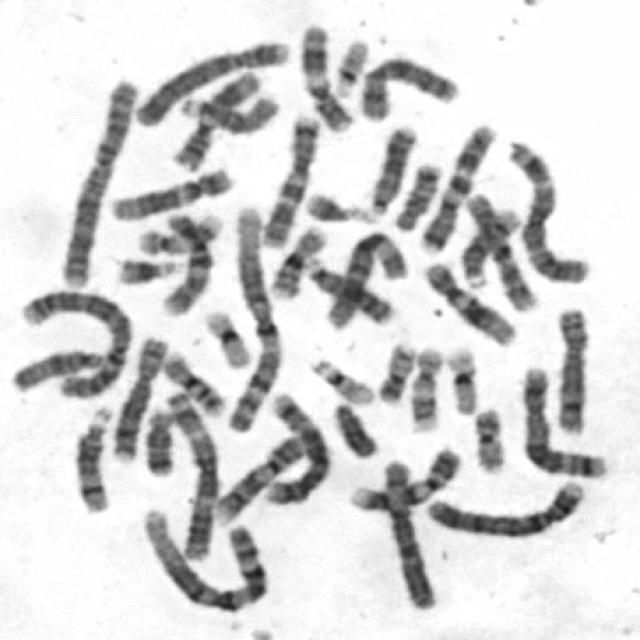A1: (134, 504, 266, 614), (222, 201, 282, 433)
A2: (56, 73, 140, 292), (13, 285, 134, 401)
A3: (503, 137, 591, 286), (160, 390, 220, 560)
B4: (129, 36, 292, 128), (420, 474, 588, 540)
B5: (516, 362, 609, 478), (261, 388, 331, 508)
C10: (459, 185, 536, 308), (155, 208, 214, 316)
C11: (170, 67, 266, 171), (291, 24, 348, 138)
C12: (418, 258, 516, 348), (106, 164, 236, 222)
C6: (323, 228, 412, 332), (377, 459, 436, 614)
C7: (416, 118, 502, 257), (260, 105, 324, 248)
C8: (108, 332, 170, 462), (550, 303, 590, 437)
C9: (208, 432, 308, 527), (345, 446, 463, 514)
D13: (303, 260, 400, 334), (366, 124, 422, 218)
D14: (457, 203, 523, 292), (70, 401, 114, 515)
D15: (8, 340, 106, 390), (176, 92, 284, 135)
E16: (261, 225, 327, 304), (158, 348, 226, 418)
E17: (136, 210, 227, 257), (408, 342, 450, 434)
E18: (392, 160, 444, 237), (141, 405, 176, 477)
F19: (200, 305, 253, 370), (444, 342, 481, 416)
F20: (373, 339, 418, 405), (468, 405, 509, 473)
G21: (299, 189, 373, 225), (110, 254, 180, 288)
G22: (306, 352, 376, 404), (329, 38, 372, 100)
X: (352, 51, 460, 122)
Y: (328, 398, 379, 460)
